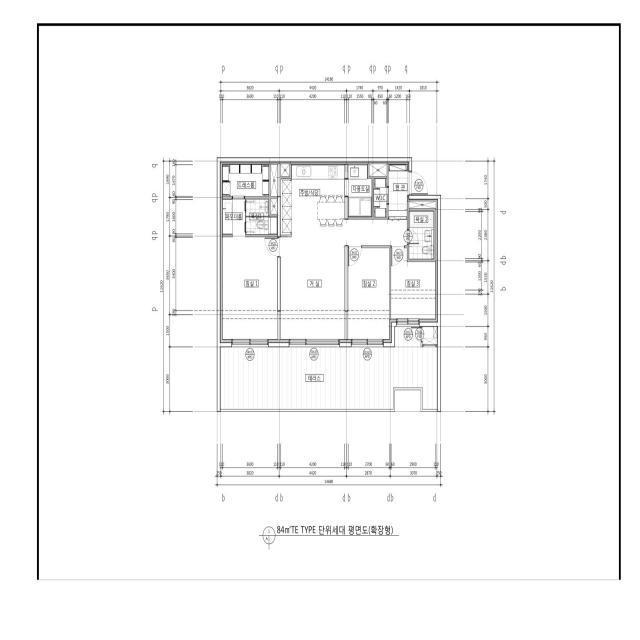space_bedroom: (220, 237, 278, 342), (348, 248, 391, 343), (391, 248, 438, 322)
space_dressroom: (220, 162, 269, 196), (220, 199, 245, 235)
space_front: (388, 162, 408, 220)
space_kitchen: (281, 162, 345, 235)
space_living_room: (281, 220, 407, 342)
space_multipurpose_space: (348, 162, 372, 217)
space_other: (374, 179, 387, 217), (422, 326, 437, 345), (369, 162, 387, 176), (270, 162, 277, 196), (409, 200, 437, 208), (281, 163, 290, 177), (270, 199, 277, 214)
space_toilet: (409, 211, 434, 260), (246, 198, 277, 234)
